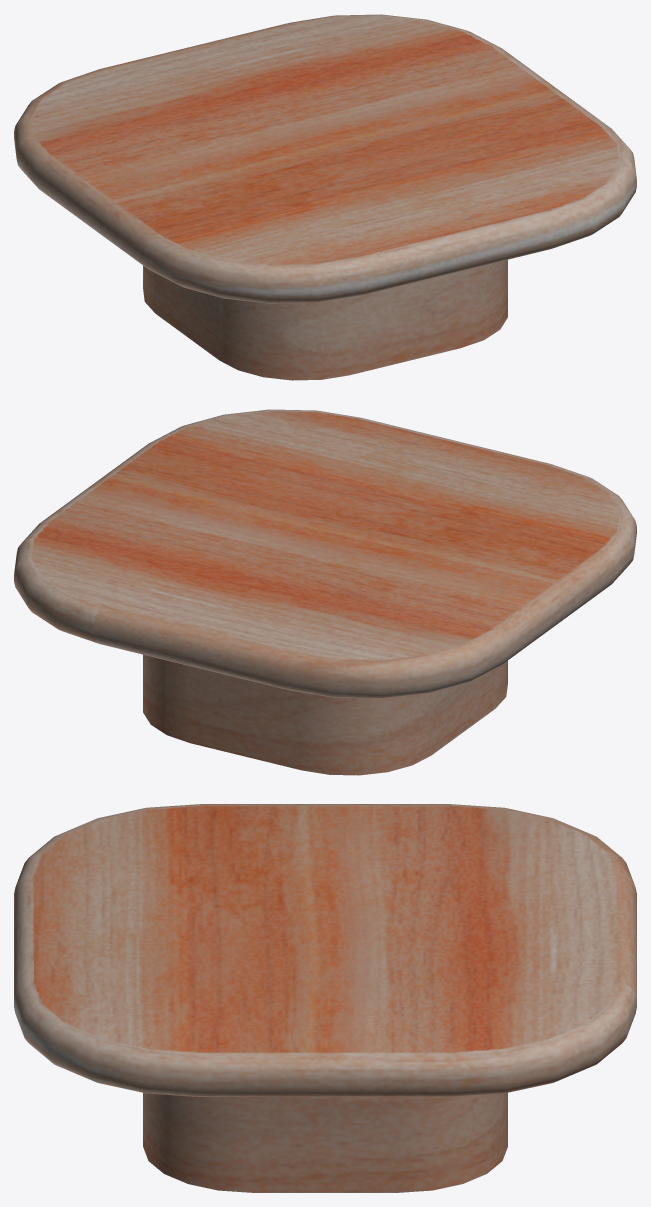
The model's file is CoffeeTable_Sq_Cherry3.glb.
3 views of the same model, one above another, from view 1: azimuth 30°, elevation 25°; view 2: azimuth 150°, elevation 25°; view 3: azimuth 270°, elevation 25° (orthographic). The views are drawn at different scales.
Visible parts, largest first — view 1: Cube.007, Cube; view 2: Cube.007, Cube; view 3: Cube.007, Cube.
Boxes of the visible parts, bbox=[...] form: Cube.007: bbox=[14, 14, 636, 303]; Cube: bbox=[143, 259, 507, 380]; Cube.007: bbox=[14, 409, 636, 698]; Cube: bbox=[143, 654, 507, 775]; Cube.007: bbox=[14, 804, 636, 1096]; Cube: bbox=[143, 1093, 507, 1192].
Bounding box in the file's own units: 1.53 × 0.5061 × 1.53.
1 material, 1 textured.
